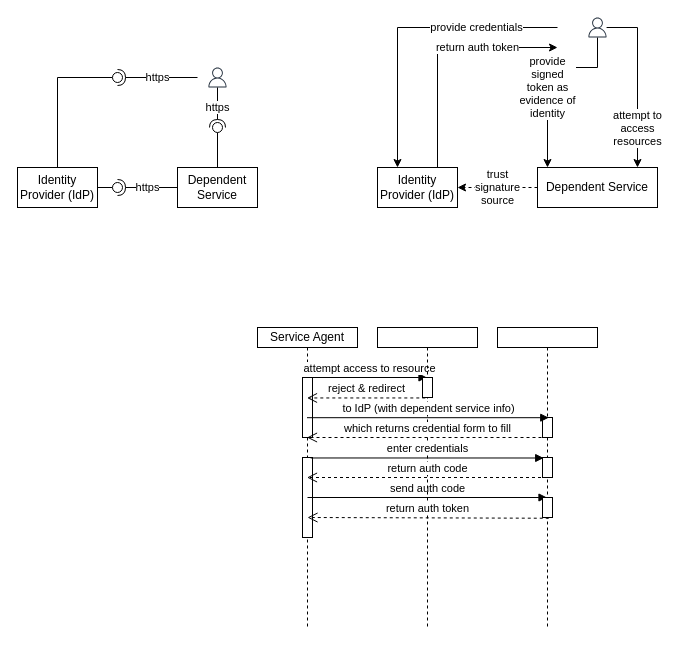
This 679x645 diagram has some shape labels left out. Here are the shapes that lost their labels. From the top down, the box of each, then its label:
(376, 326, 478, 628): Service
(496, 326, 598, 628): IdP
